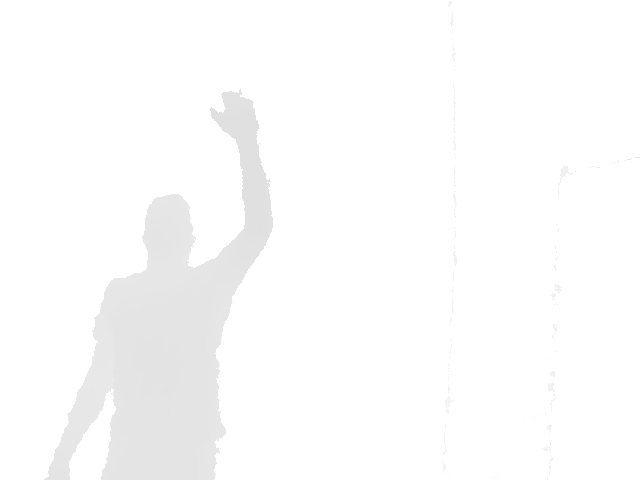hand: (208, 89, 261, 137)
head: (141, 193, 195, 271)
person: (43, 89, 274, 479)
